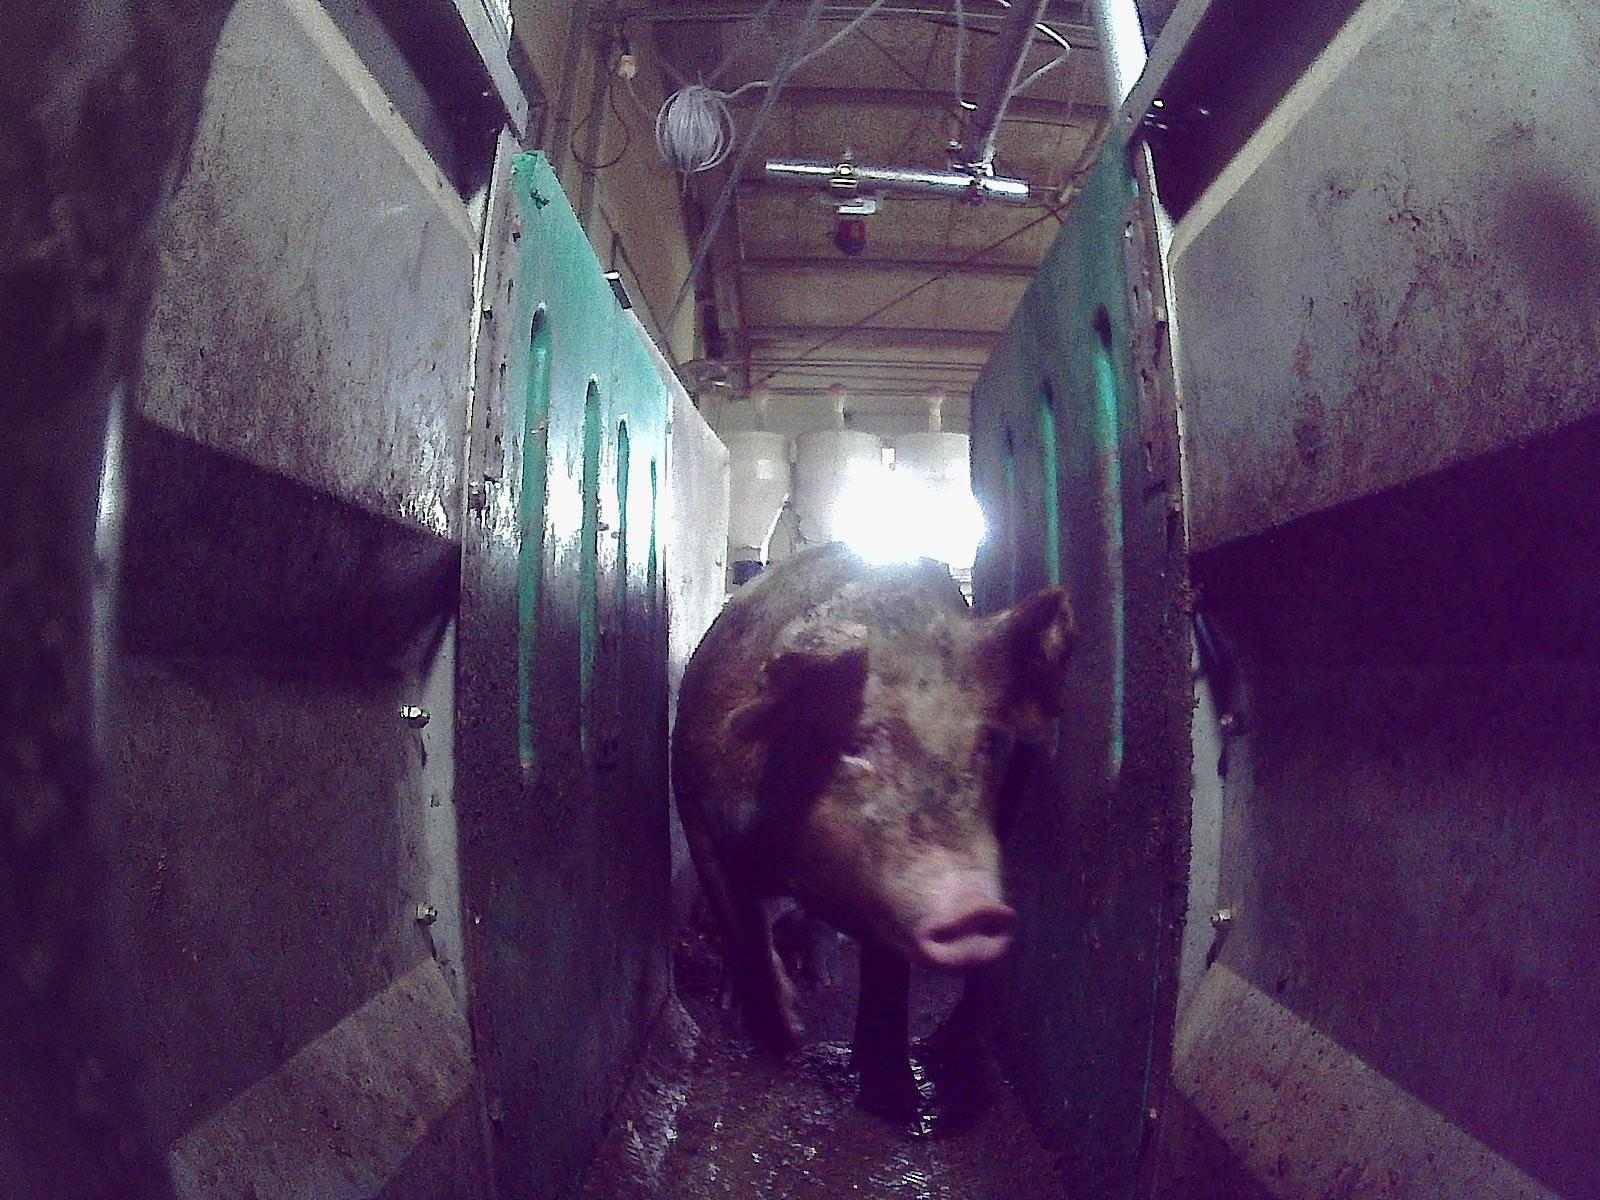Face: (789, 612, 1020, 966)
